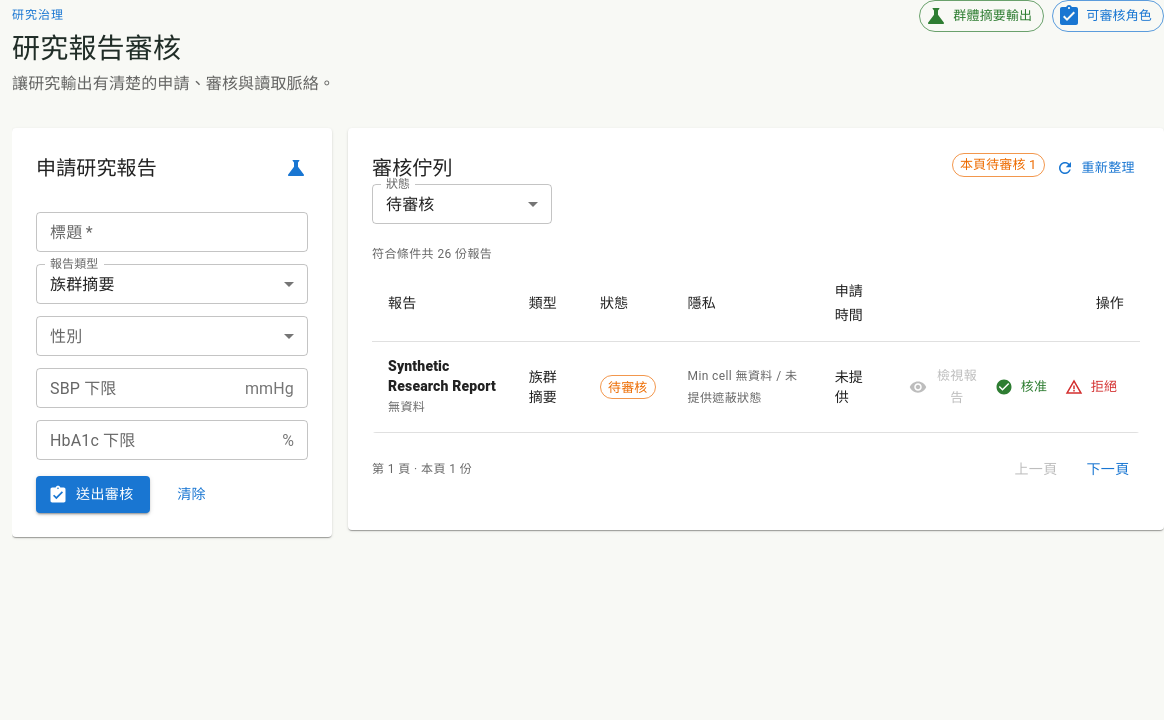
Test: queue count is scoped, privacy is unknown and pages use backend totals
Expected: the text "符合條件共 26 份報告" is shown, [372,248,492,262]
Expected: the text "本頁待審核 1" is shown, [960,157,1036,172]
Step 1. Click the button "下一頁" → (1108, 470), box [1076,451,1140,488]
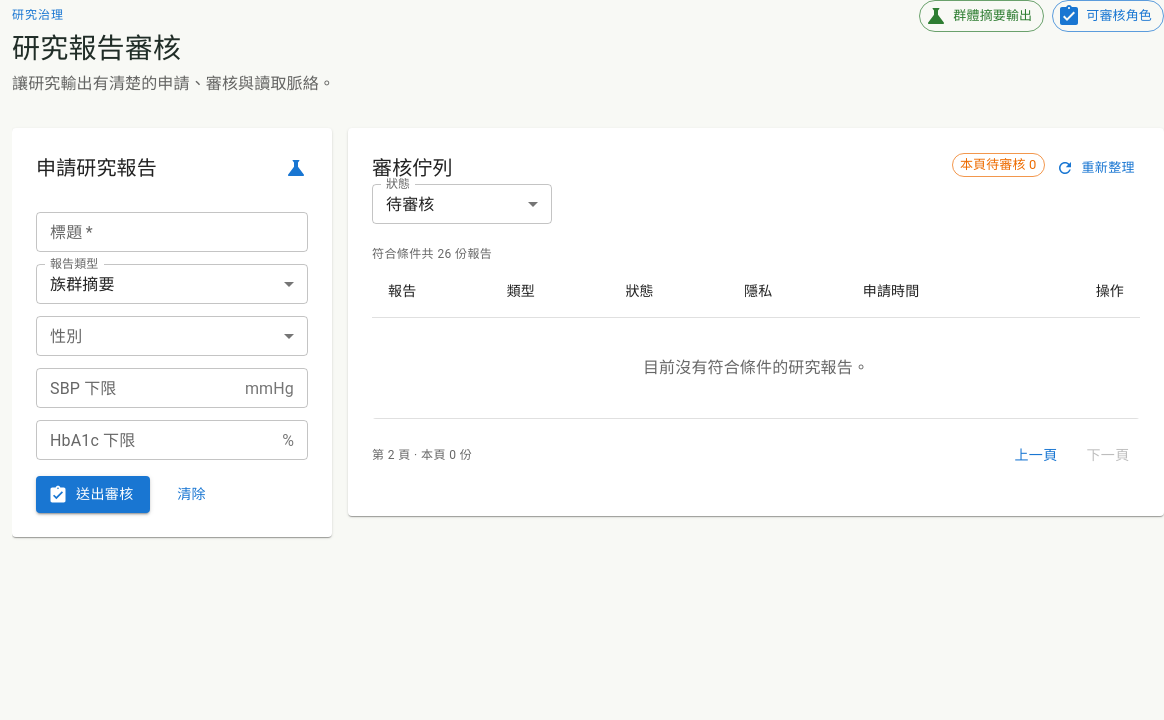
Expected: the text "第 2 頁 · 本頁 0 份" is shown, [372,446,472,466]
